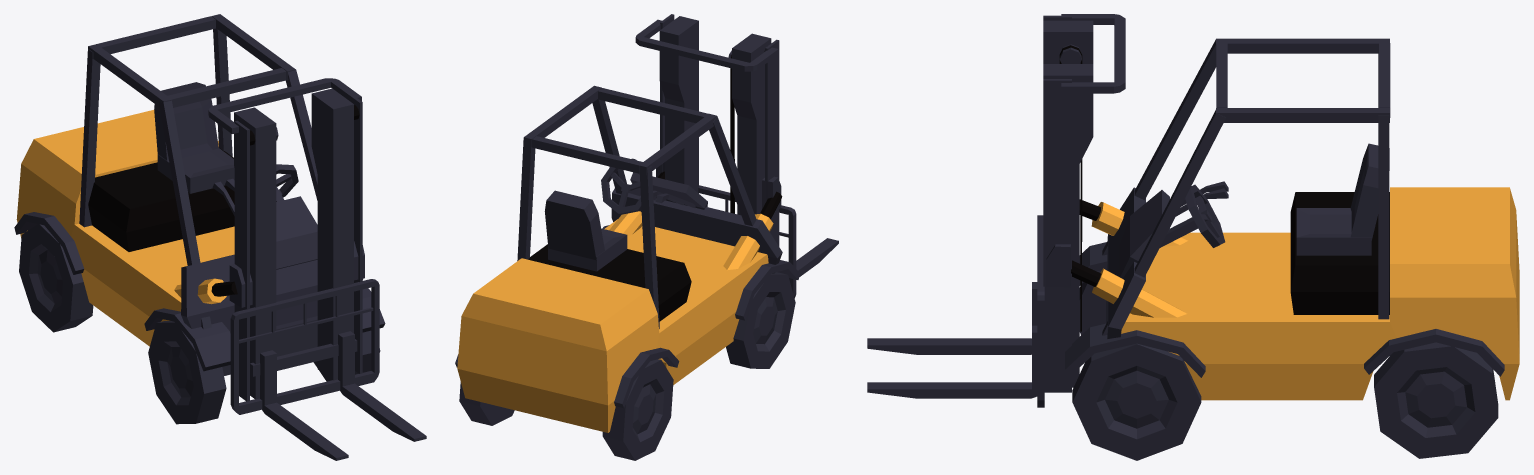
The model's file is elevator-truck.glb.
3 renders of one model, left to right at view 1: azimuth 30°, elevation 25°; view 2: azimuth 150°, elevation 25°; view 3: azimuth 270°, elevation 25°, orthographic. The views are drawn at different scales.
Parts seen in each view (by area): view 1: elevator-truck; view 2: elevator-truck; view 3: elevator-truck.
Boxes of the visible parts, x1,y1,x2,y2 form: elevator-truck: (14, 14, 426, 460); elevator-truck: (455, 14, 838, 460); elevator-truck: (867, 14, 1519, 460).
Bounding box in the file's own units: 0.8768 × 1.47 × 2.4.
1 material, 1 textured.
